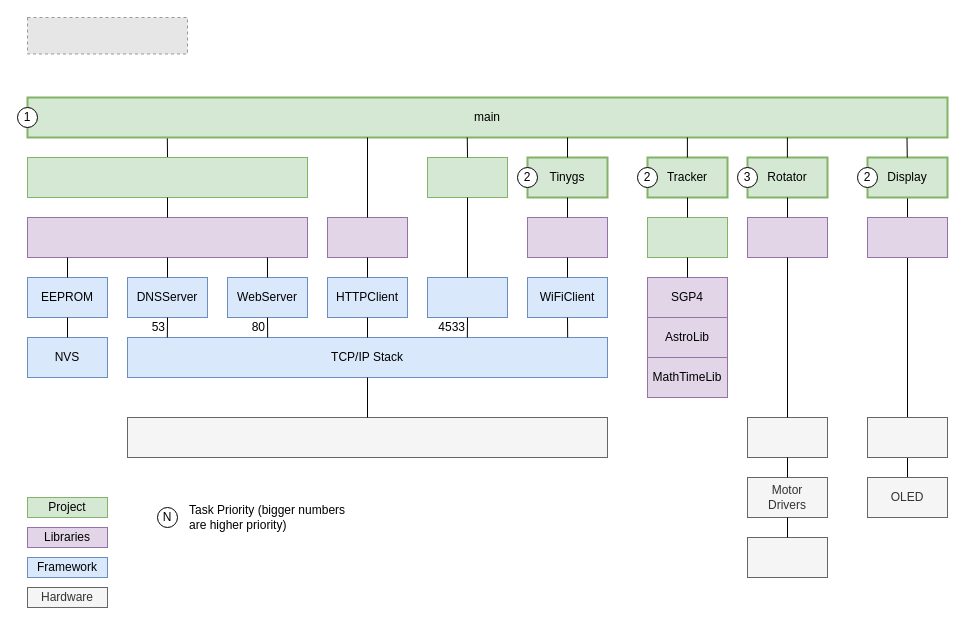
Some shapes in this 966 by 625 pixel diagram are drawn without their labels. Grey dashed boxes stand in for pictures. The centre of each missing label's shape, as x and y in pixels:
"AccelStepper" goes at point (787, 237).
"GPIO" goes at point (787, 437).
"I2C" goes at point (907, 437).
"IotWebConf" goes at point (167, 237).
"Predictor" goes at point (687, 237).
"PubSubClient" goes at point (567, 237).
"Rotctld" goes at point (467, 177).
"Stepper Motors" goes at point (787, 557).
"Thingpings" goes at point (367, 237).
"U8g2" goes at point (907, 237).
"WebUI" goes at point (167, 177).
"WiFi" goes at point (367, 437).
"WiFiServer" goes at point (467, 297).
